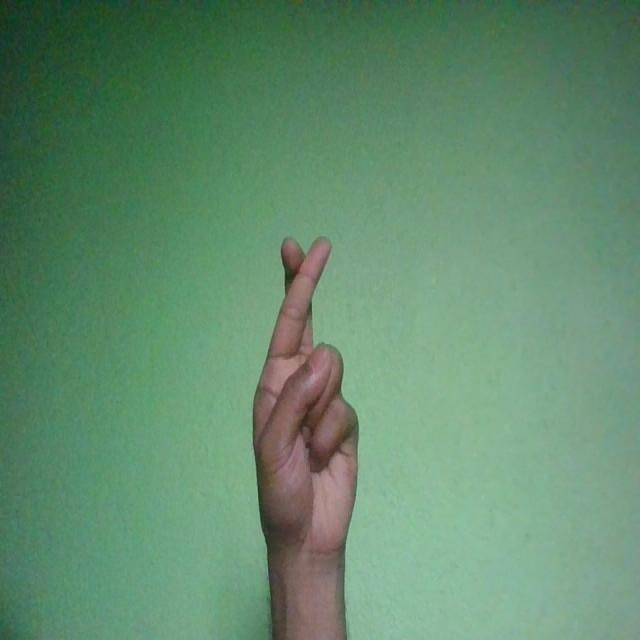Ok: (253, 238, 360, 564)
